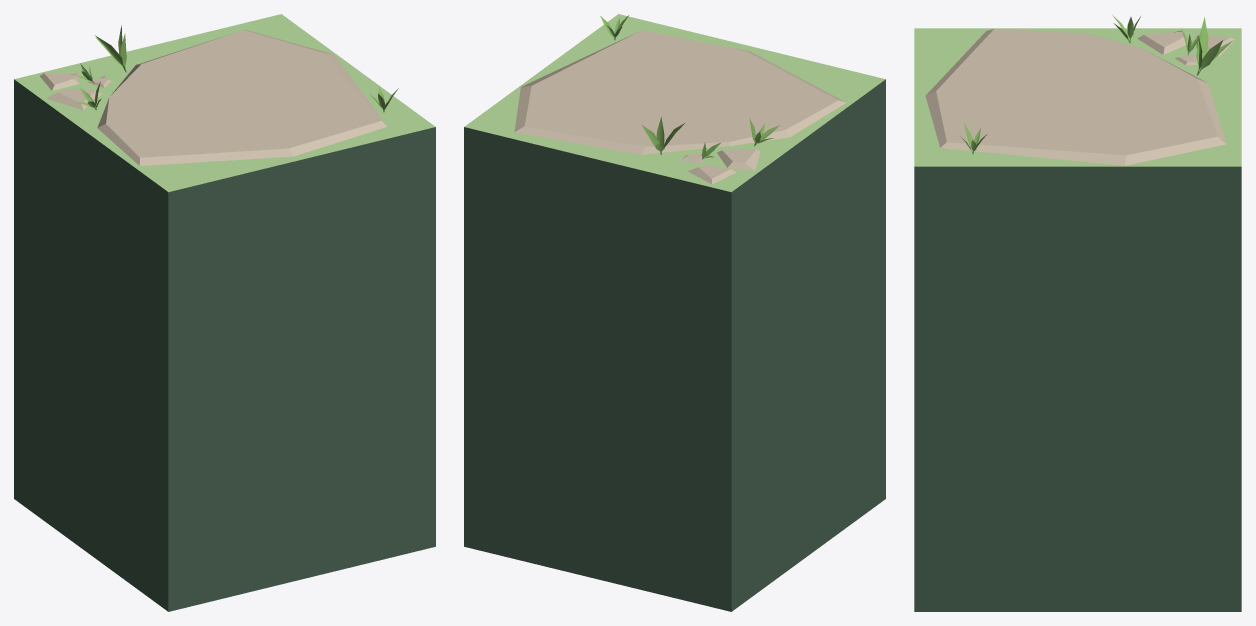
File: Path01.fbx
The picture shows the model from 3 angles, left to right: view 1: azimuth 30°, elevation 25°; view 2: azimuth 150°, elevation 25°; view 3: azimuth 270°, elevation 25°; orthographic projection. The views are drawn at different scales.
Visible parts, largest first — view 1: Cube.013; view 2: Cube.013; view 3: Cube.013.
Boxes of the visible parts, x1,y1,x2,y2 form: Cube.013: (14, 14, 435, 611); Cube.013: (464, 14, 885, 611); Cube.013: (914, 15, 1241, 611).
Size of the model in its own units: 100 by 165 by 100.
